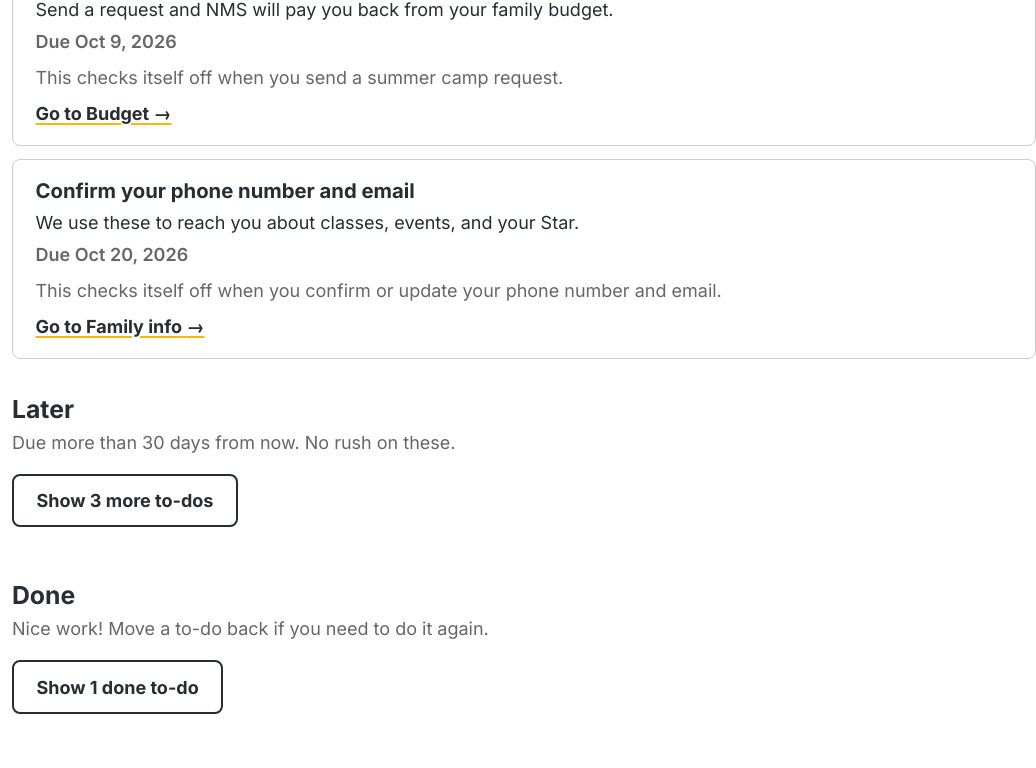
TodosTab › moves an automatic to-do to Done once its action is recorded, with no Move back
(page scrolled)
Step 1. Click the button "Show 1 done to-do" → (118, 687), box [12,660,223,714]
(page scrolled)
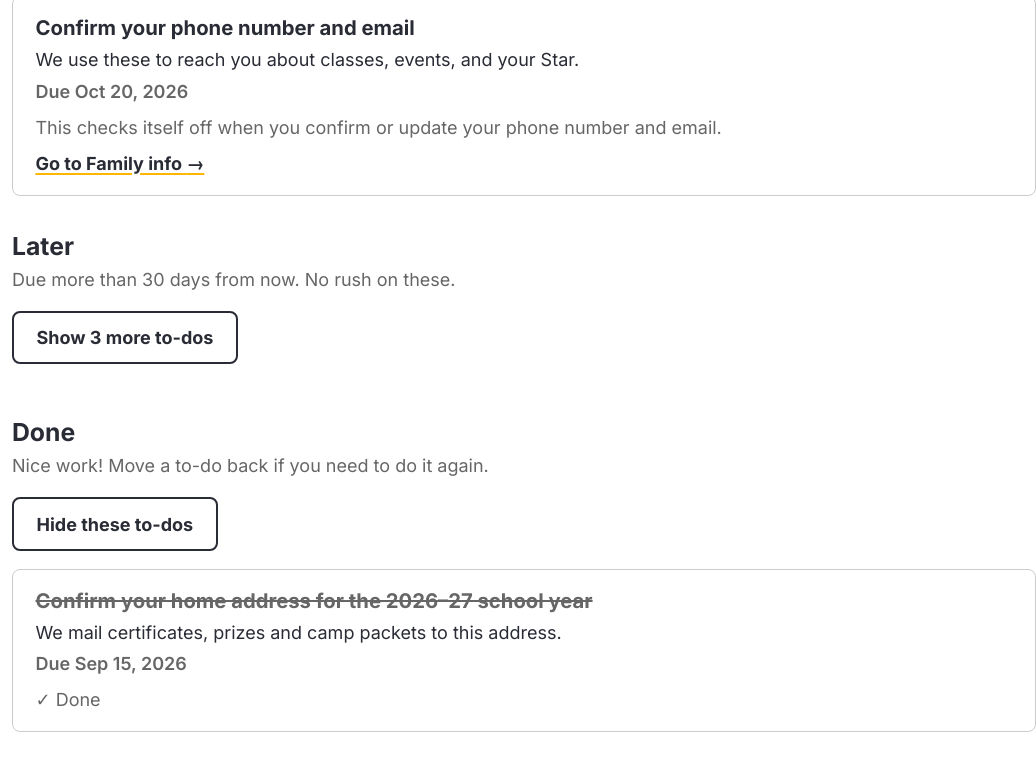
expect the text "✓ Done" is shown: met, box [36,689,101,710]
